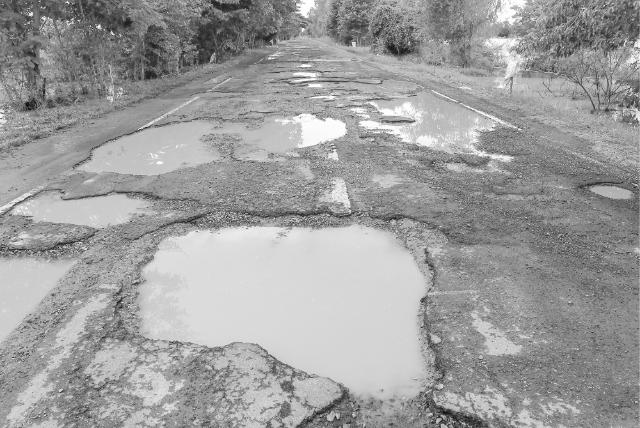Pothole: (128, 213, 448, 405), (69, 110, 351, 178), (342, 92, 503, 158), (1, 252, 88, 358), (7, 187, 147, 227), (263, 76, 423, 98), (578, 182, 634, 202)
